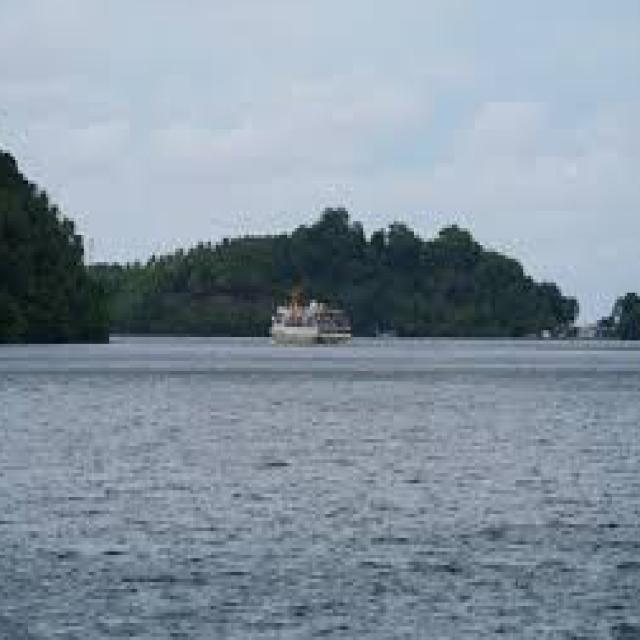fishing boat: (264, 286, 353, 344)
